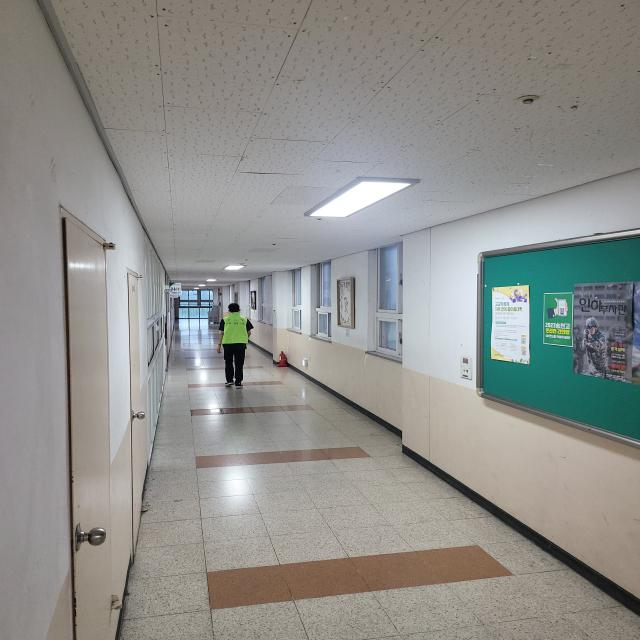weston_spy: (218, 308, 256, 355)
